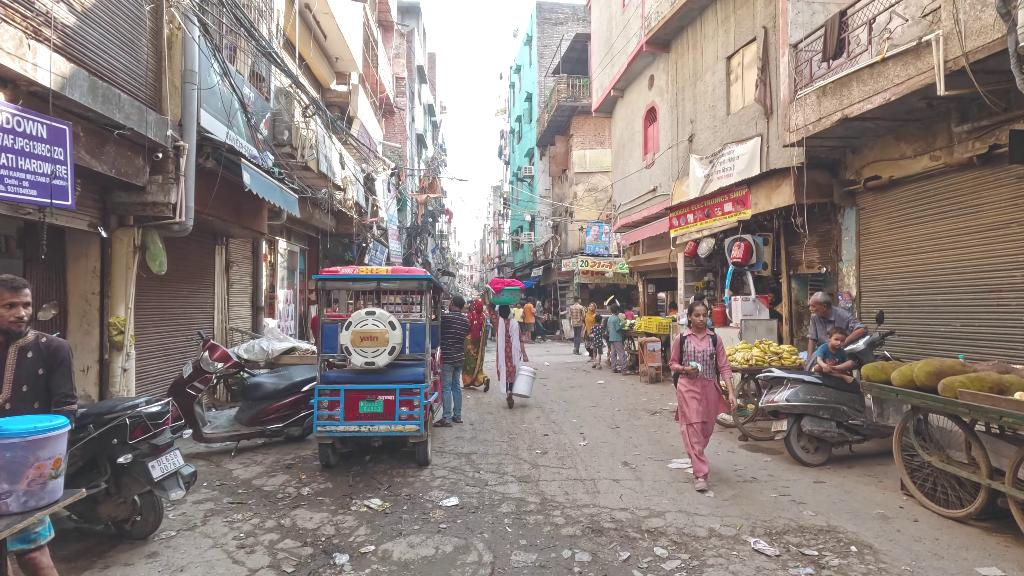garbage: (744, 533, 787, 561), (355, 493, 396, 515), (428, 496, 470, 515)
